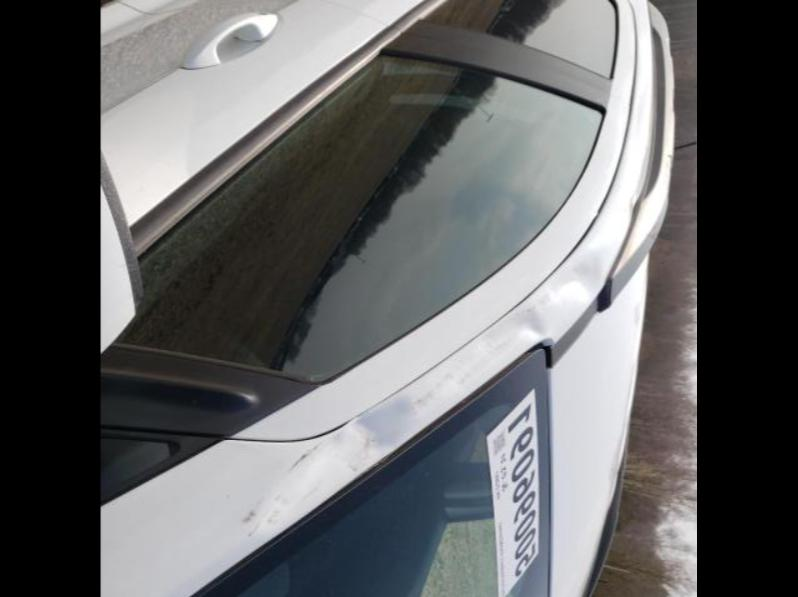Dent: (243, 251, 602, 526)
Scratch: (286, 444, 326, 464), (242, 508, 266, 526)
